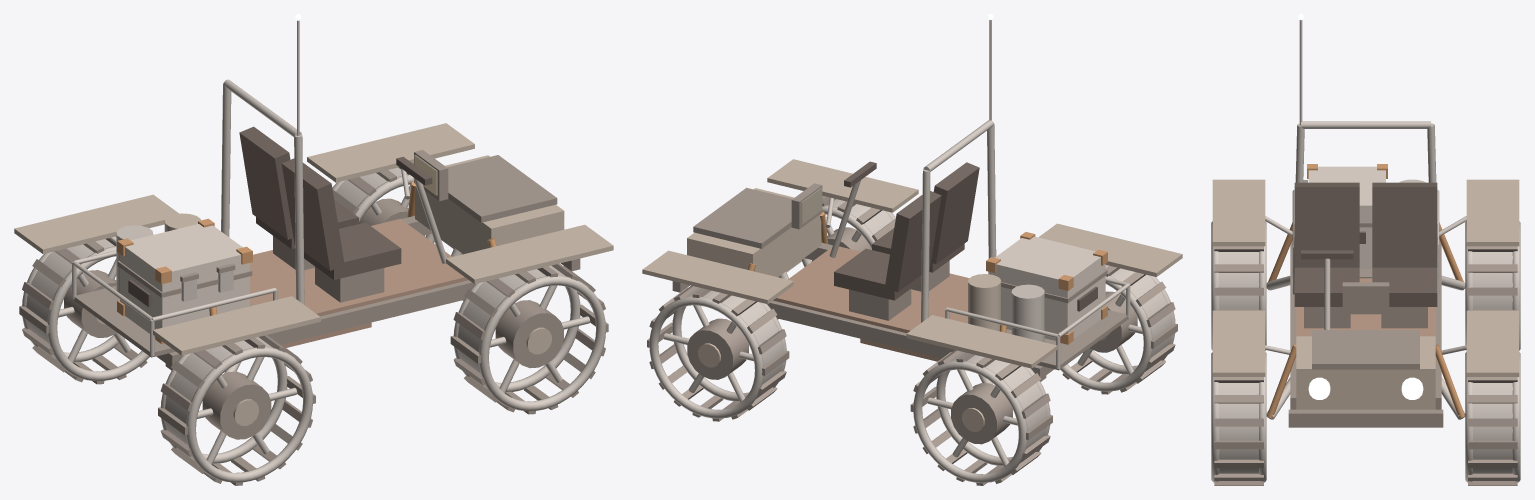
File: V01_open_rover_white.glb
3 renders of one model, left to right at view 1: azimuth 30°, elevation 25°; view 2: azimuth 150°, elevation 25°; view 3: azimuth 270°, elevation 25°, orthographic. The views are drawn at different scales.
Parts seen in each view (by area): view 1: hub_cap, tread, tire, floor_pan; view 2: hub_cap, tread, tire, floor_pan; view 3: hub_cap, tread, tire, floor_pan, headlight.
Boxes of the visible parts, box(x1,y1,x2,y2) form: hub_cap: box(14, 123, 613, 425); tread: box(19, 150, 608, 485); tire: box(22, 20, 605, 482); floor_pan: box(250, 218, 468, 347); hub_cap: box(642, 159, 1182, 431); tread: box(647, 183, 1177, 485); tire: box(649, 20, 1175, 482); floor_pan: box(773, 246, 969, 361); hub_cap: box(1212, 164, 1519, 418); tread: box(1214, 180, 1517, 485); tire: box(1211, 20, 1520, 482); floor_pan: box(1296, 278, 1435, 336); headlight: box(1298, 14, 1423, 399).
Size of the model in its own units: 3.01 by 2.68 by 2.
